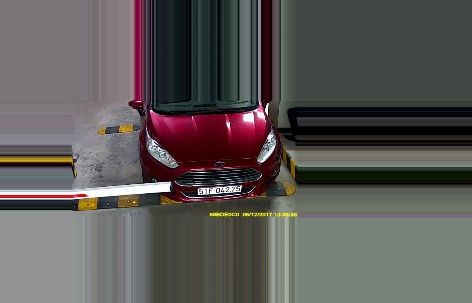plate: (197, 184, 239, 195)
